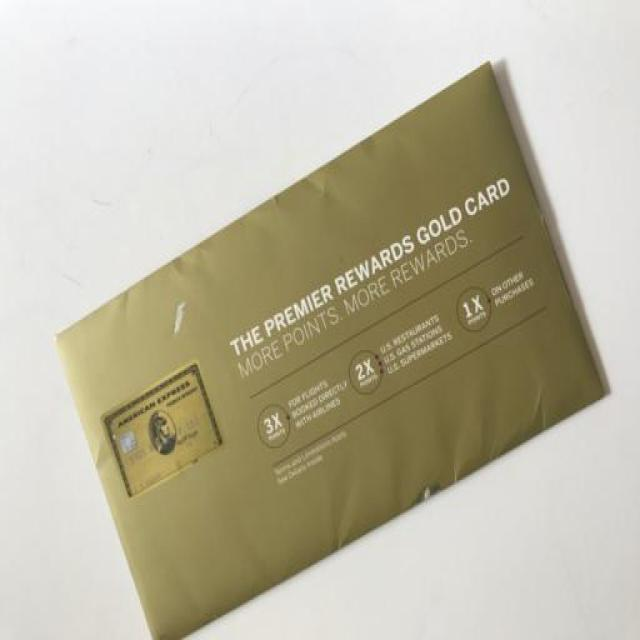paper: (51, 56, 610, 638)
